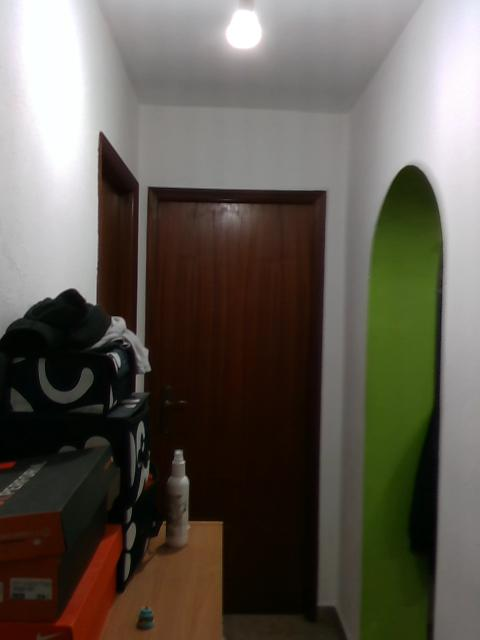door: (154, 200, 316, 605)
